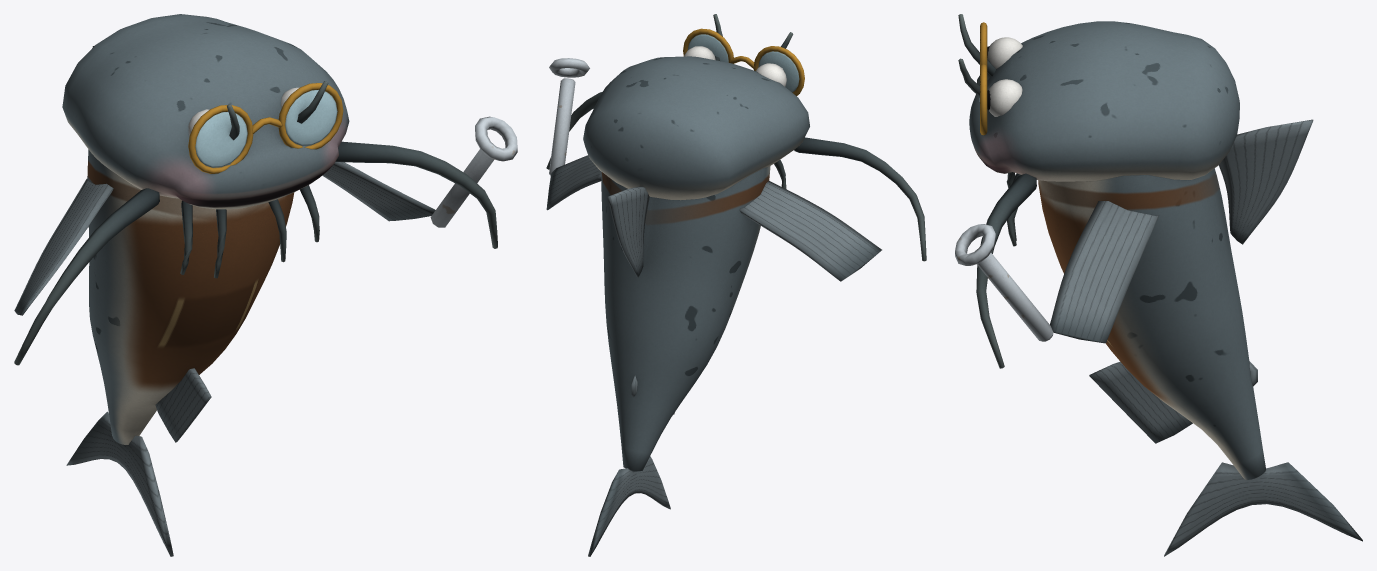
Rendered from Mecanico_Bagre.fbx.
The picture shows the model from 3 angles, left to right: view 1: azimuth 30°, elevation 25°; view 2: azimuth 150°, elevation 25°; view 3: azimuth 270°, elevation 25°; orthographic projection. The views are drawn at different scales.
Visible parts, largest first — view 1: Cuerpo; view 2: Cuerpo; view 3: Cuerpo.
Boxes of the visible parts, box(x1,y1,x2,y2) form: Cuerpo: box(14, 14, 517, 556); Cuerpo: box(546, 14, 926, 556); Cuerpo: box(955, 14, 1362, 556).
Bounding box in the file's own units: 1.31 × 1.38 × 0.9841.
1 material, 1 textured.
